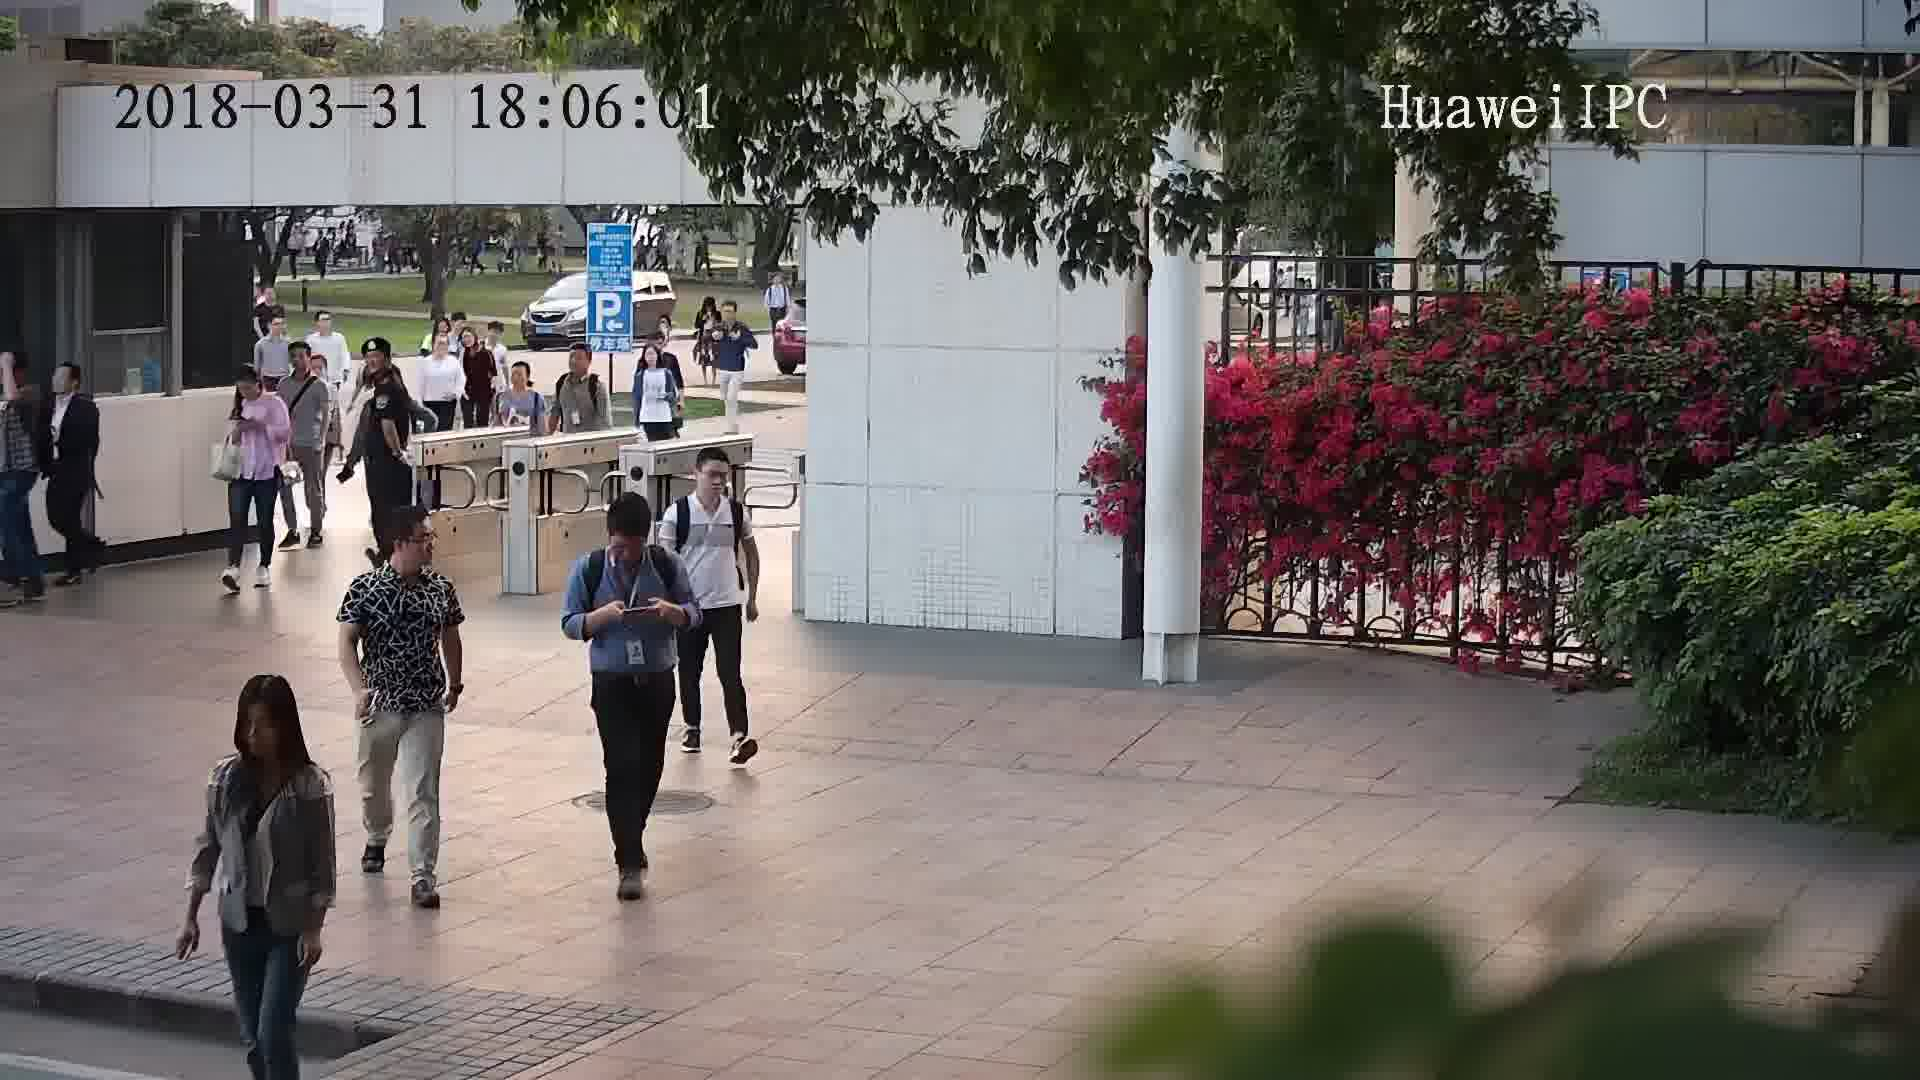face: (229, 699, 292, 762), (398, 517, 440, 569), (694, 460, 735, 501)
person: (212, 672, 334, 803), (354, 505, 456, 607), (582, 486, 679, 583), (671, 445, 751, 526), (228, 364, 289, 415), (279, 337, 331, 397), (47, 358, 98, 418), (358, 333, 407, 388), (362, 374, 417, 425), (1, 351, 40, 419), (558, 342, 607, 393), (251, 307, 297, 358), (420, 330, 462, 378), (634, 338, 680, 381), (306, 307, 350, 350), (712, 296, 755, 338), (505, 360, 545, 406), (252, 284, 289, 319), (459, 325, 490, 362), (483, 317, 511, 355), (694, 296, 724, 326), (763, 271, 791, 293)
